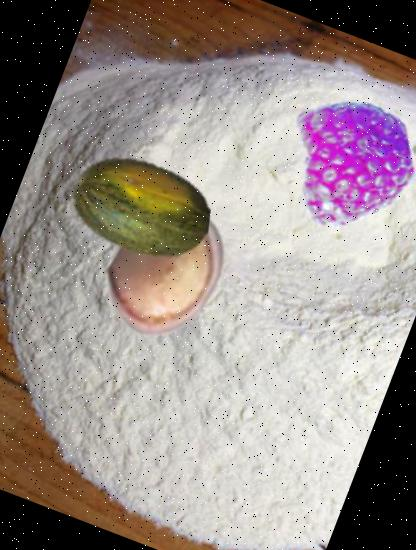Hazelnut: (72, 181, 258, 366)
Melon: (51, 117, 231, 297)
Raspberry: (270, 80, 416, 247)
